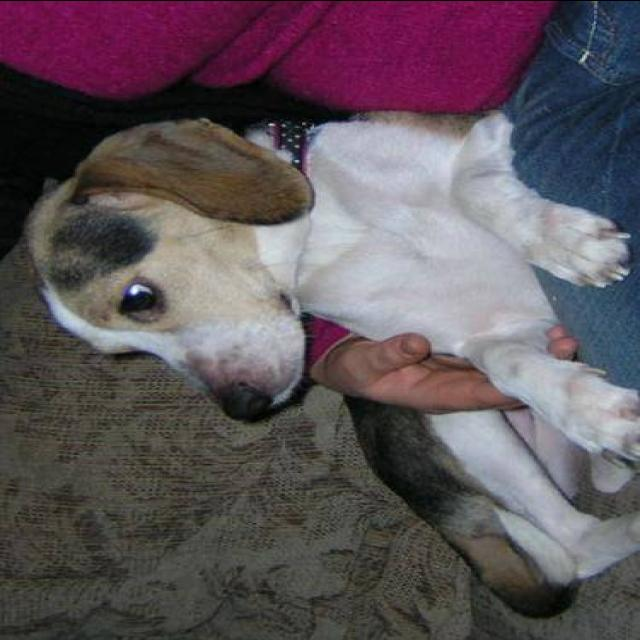dog: (21, 91, 640, 627)
